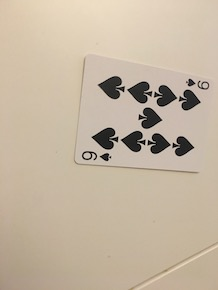NineOfSpades: (73, 49, 214, 175)
